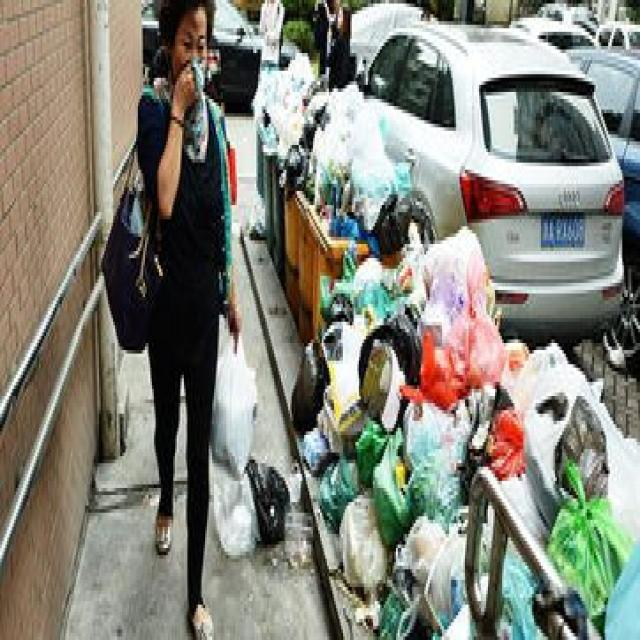garbage: (288, 223, 638, 636)
